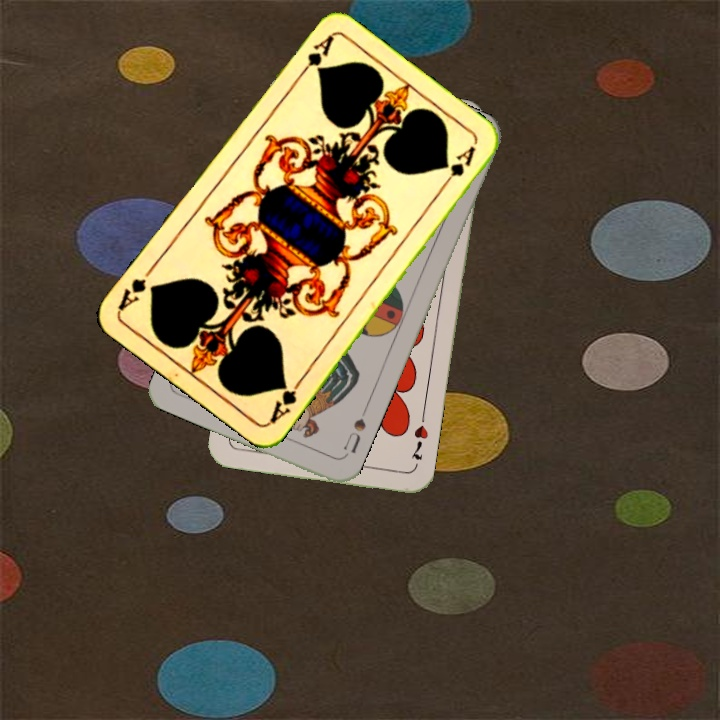GA: (293, 31, 337, 82), (265, 373, 305, 427)
H7: (407, 421, 431, 463)
SU: (339, 404, 370, 460)
